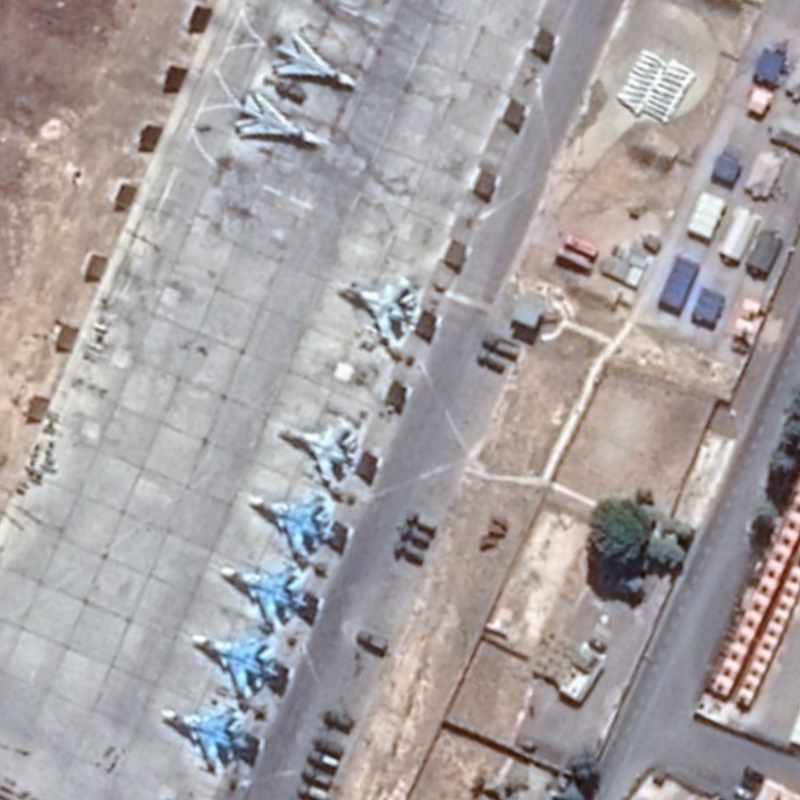A1: (335, 273, 419, 339), (278, 419, 358, 484)
A19: (243, 487, 336, 559), (158, 698, 253, 768), (218, 558, 310, 629), (189, 629, 281, 699)
A20: (232, 90, 330, 146), (274, 28, 359, 89)
